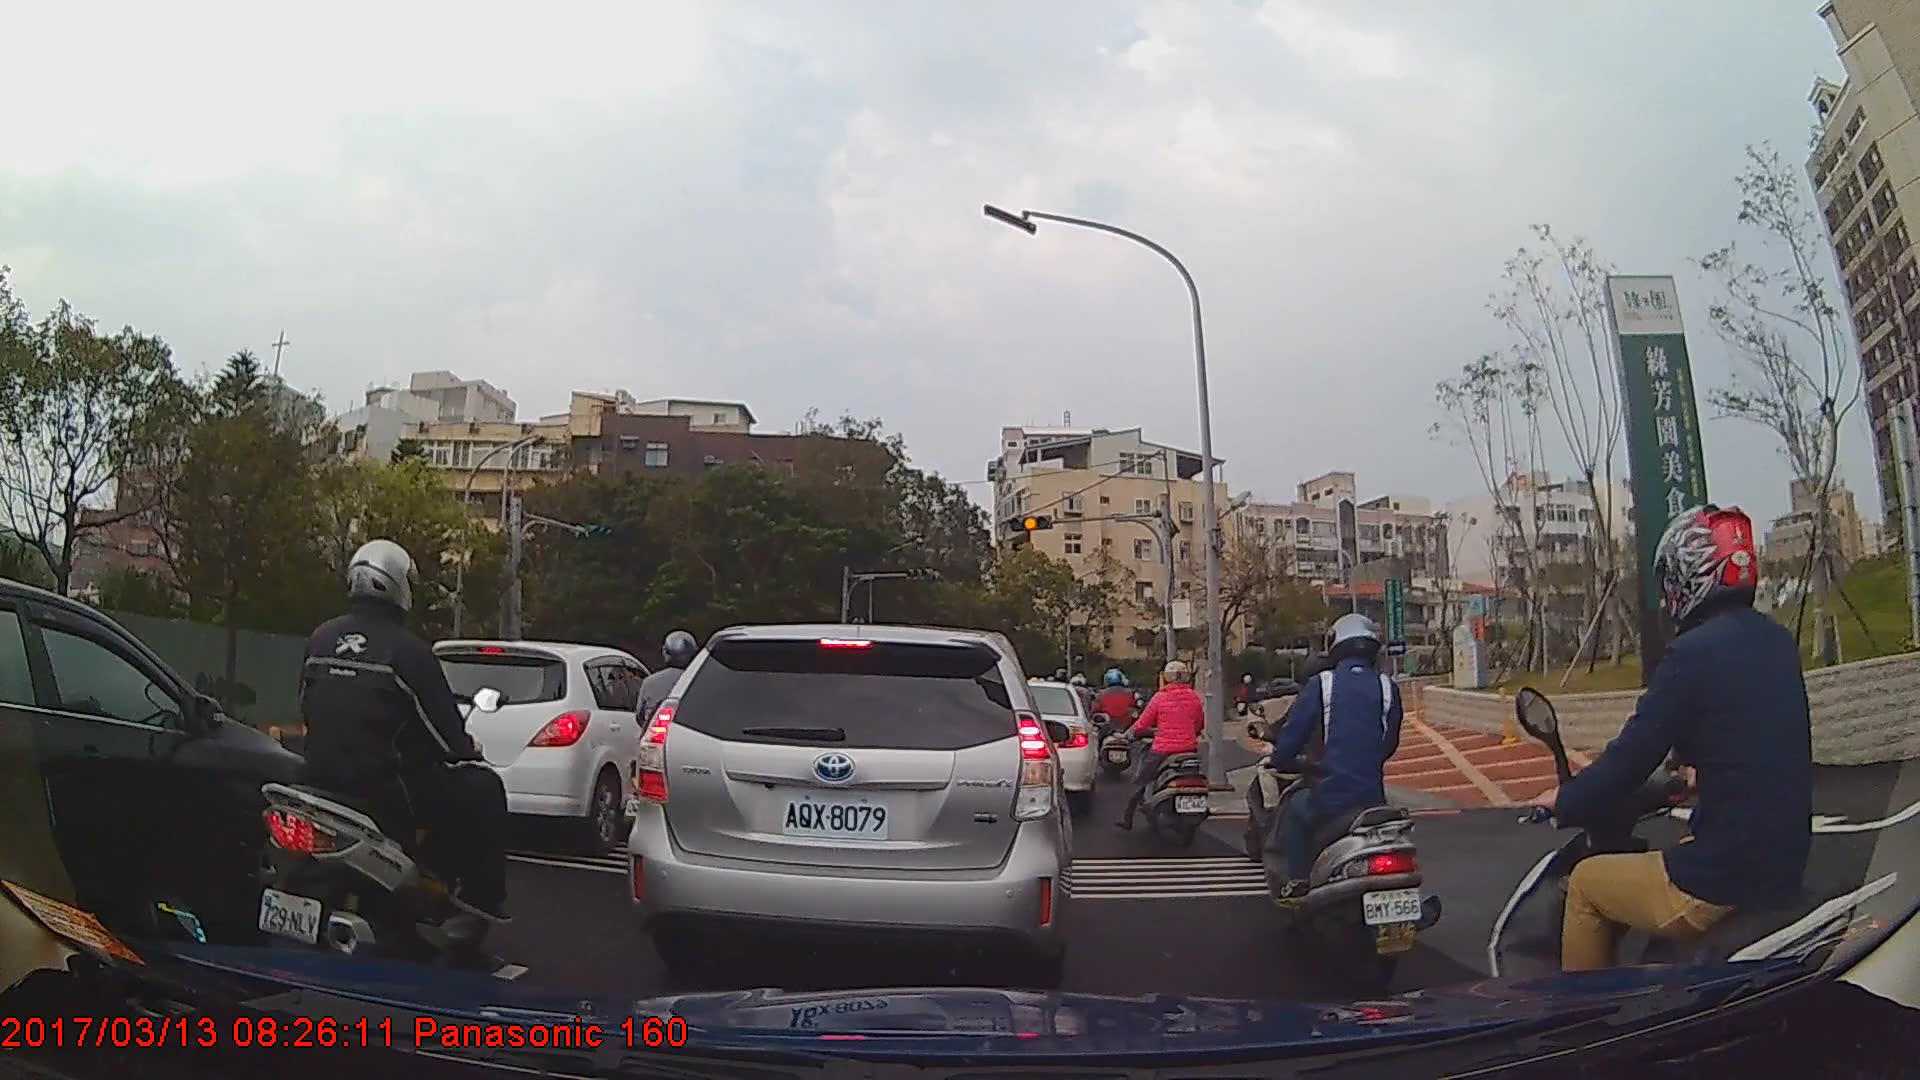rider: (1485, 503, 1903, 1079), (256, 537, 514, 1000), (1250, 612, 1434, 1002), (627, 627, 711, 878), (1135, 663, 1212, 854), (1091, 667, 1141, 777)
vehicle: (625, 623, 1072, 987), (0, 572, 341, 942), (387, 638, 669, 858), (992, 678, 1099, 808)
